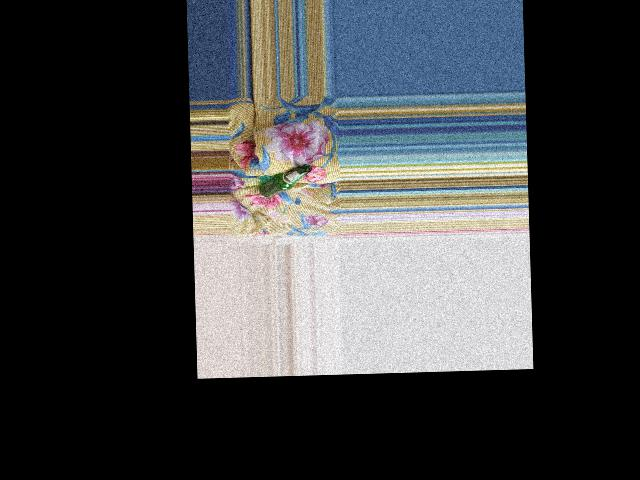beer: (258, 163, 312, 196)
